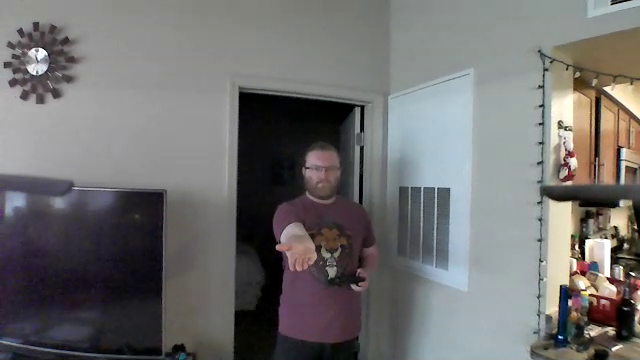land: (272, 241, 318, 272)
